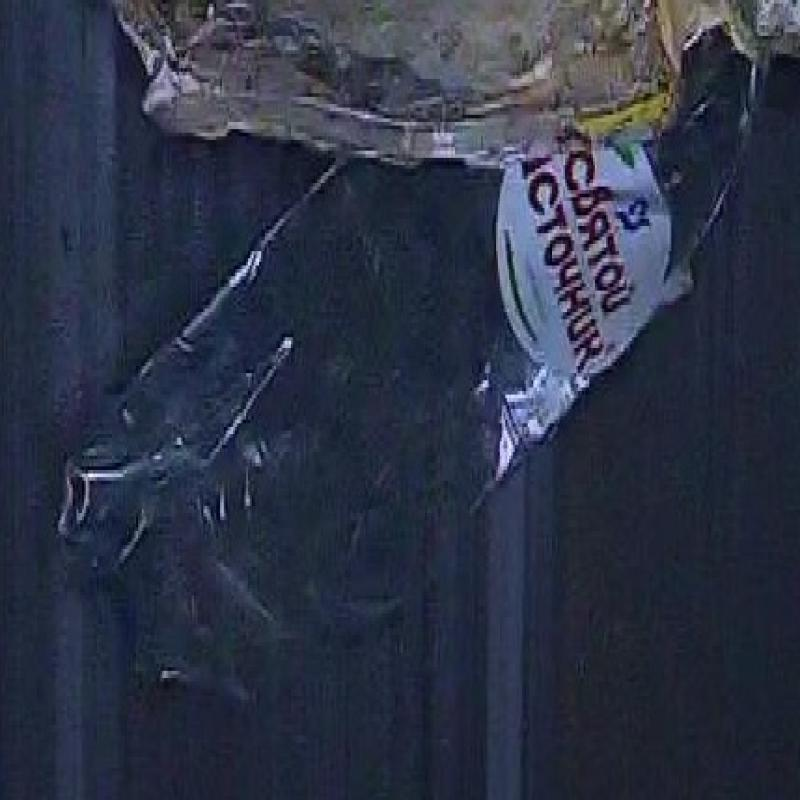botella: (59, 6, 780, 714)
